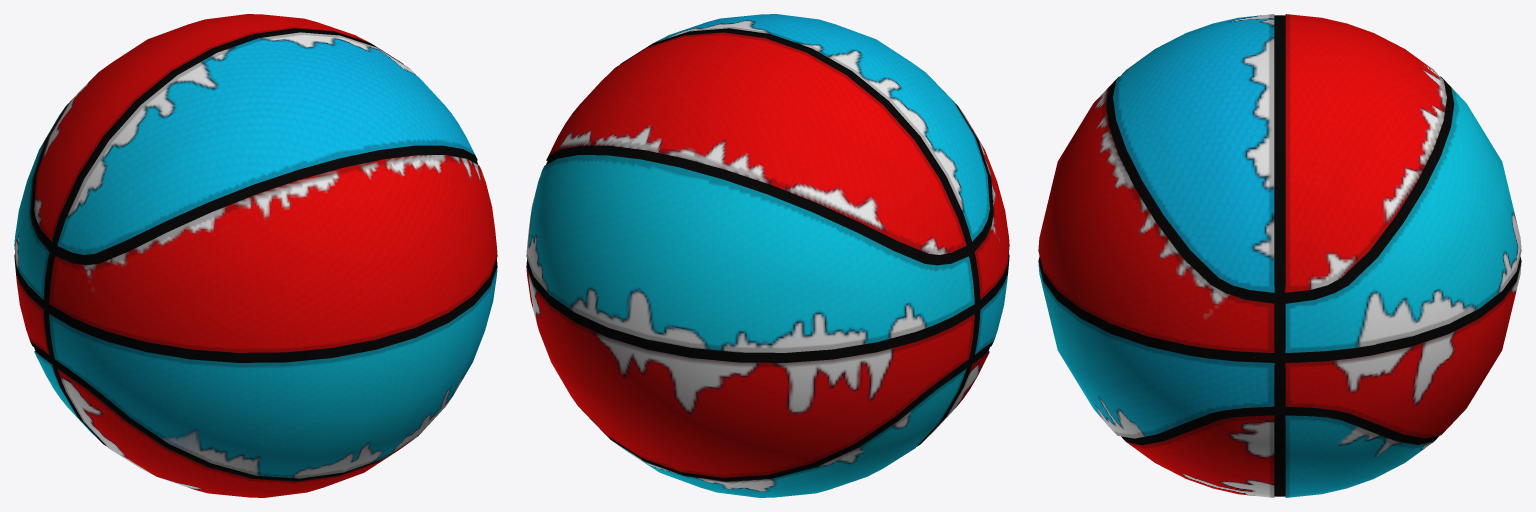
File: Ball 1.glb
3 views of the same model, side by side, from view 1: azimuth 30°, elevation 25°; view 2: azimuth 150°, elevation 25°; view 3: azimuth 270°, elevation 25° (orthographic).
Parts seen in each view (by area): view 1: Ball.038; view 2: Ball.038; view 3: Ball.038.
Boxes of the visible parts, x1,y1,x2,y2 form: Ball.038: [14, 14, 497, 497]; Ball.038: [526, 14, 1009, 497]; Ball.038: [1038, 14, 1521, 497].
Bounding box in the file's own units: 0.204 × 0.2045 × 0.2039.
1 material, 1 textured.
